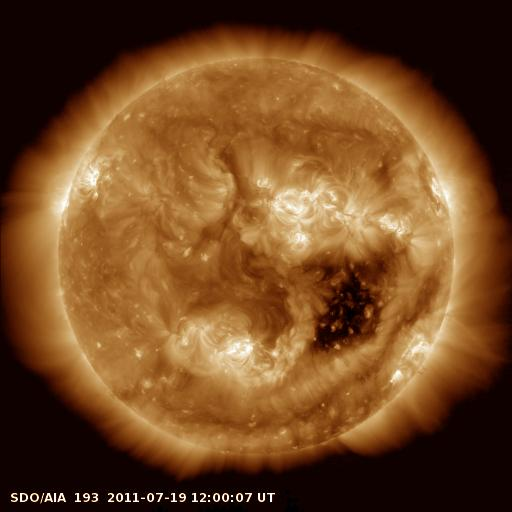coronal_hole: (306, 253, 398, 359)
